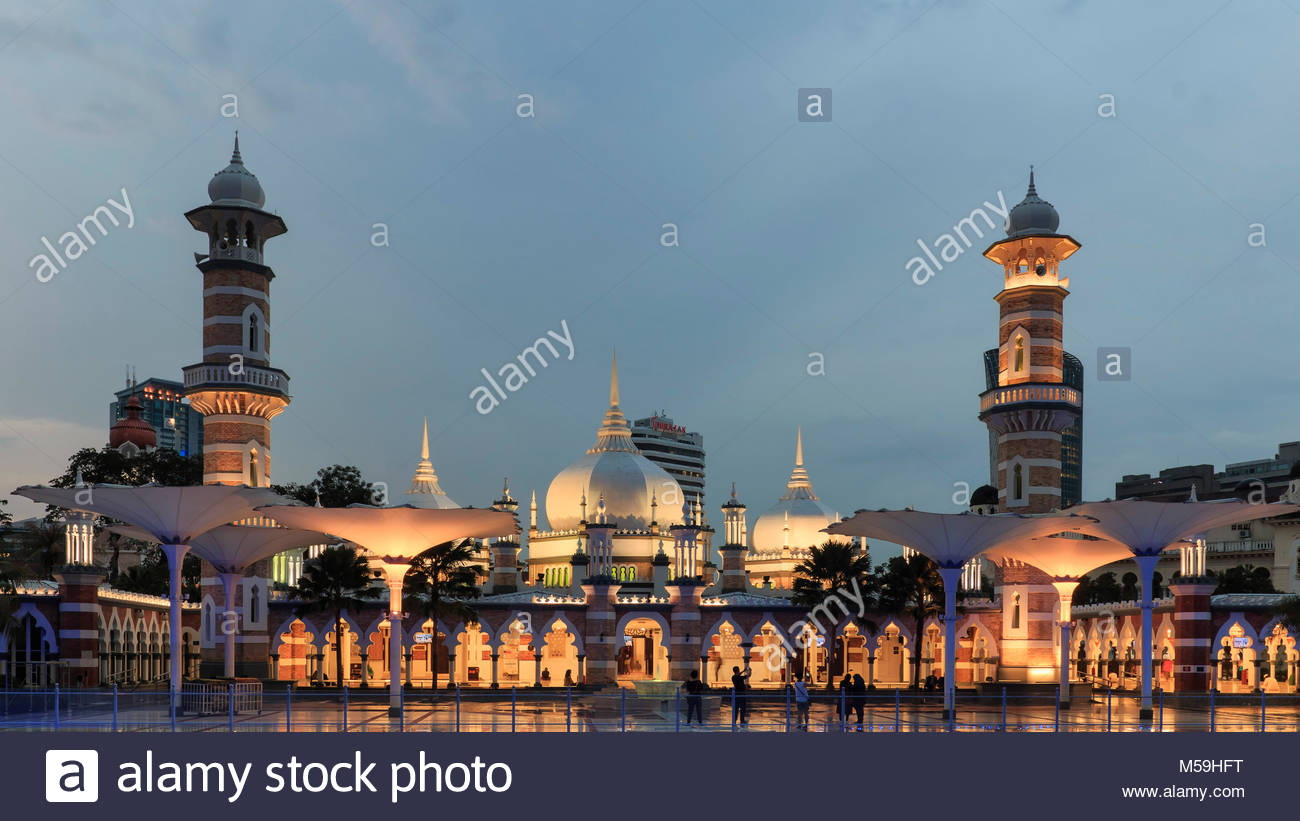Mosque: (70, 116, 1156, 699)
